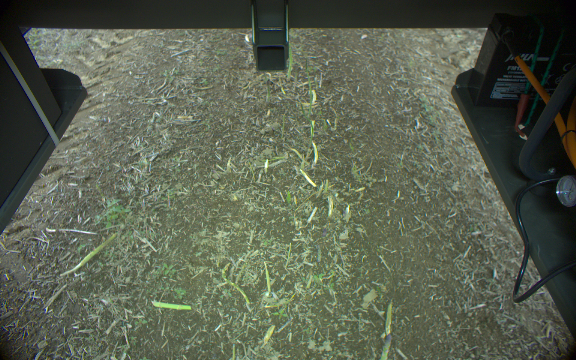aspa: (62, 232, 119, 278), (219, 260, 251, 305), (151, 297, 191, 313), (297, 167, 320, 189), (379, 332, 393, 360), (261, 259, 271, 296), (284, 41, 293, 81), (385, 299, 395, 333), (308, 140, 320, 168)
